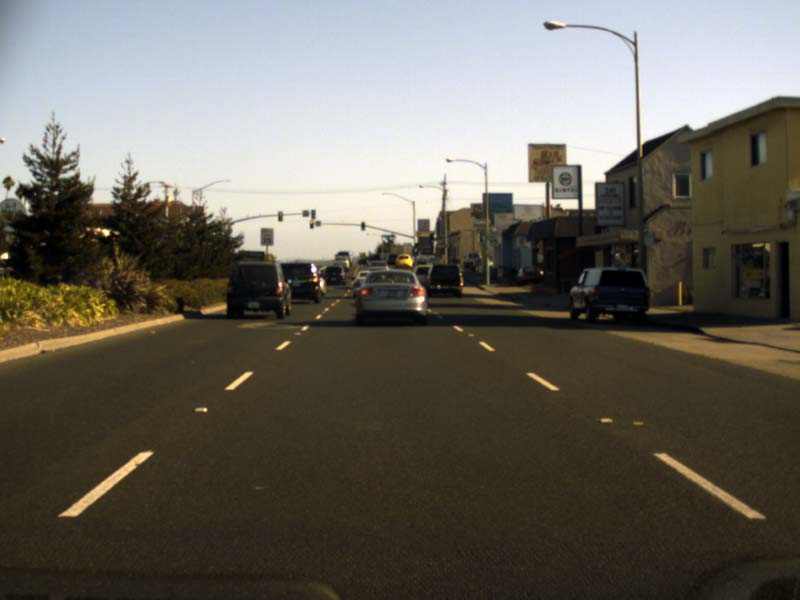Red: (309, 219, 313, 228)
